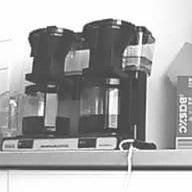not empty coffee: (75, 73, 133, 137)
